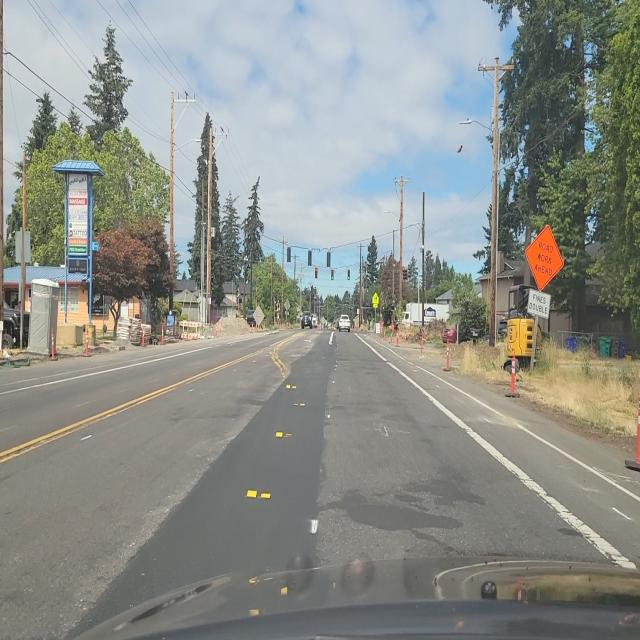car: (337, 314, 351, 332), (245, 310, 258, 328), (301, 311, 313, 330)
crosswalk-sign: (372, 293, 379, 308)
delineator: (50, 325, 56, 360), (445, 342, 451, 371), (85, 326, 89, 357), (420, 329, 424, 358), (396, 322, 400, 346), (403, 324, 407, 344), (398, 326, 402, 345), (161, 323, 164, 345), (142, 324, 145, 346), (382, 322, 386, 338), (241, 321, 245, 334), (215, 321, 217, 337)
